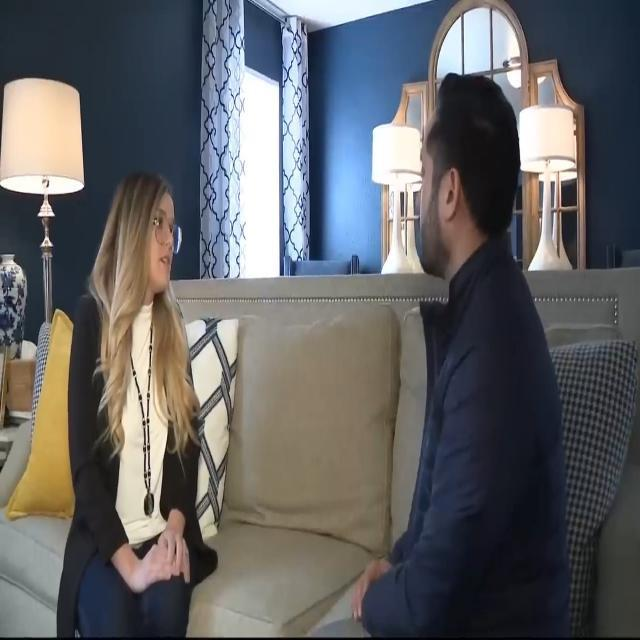non-fight: (383, 31, 572, 619), (66, 126, 257, 603)
